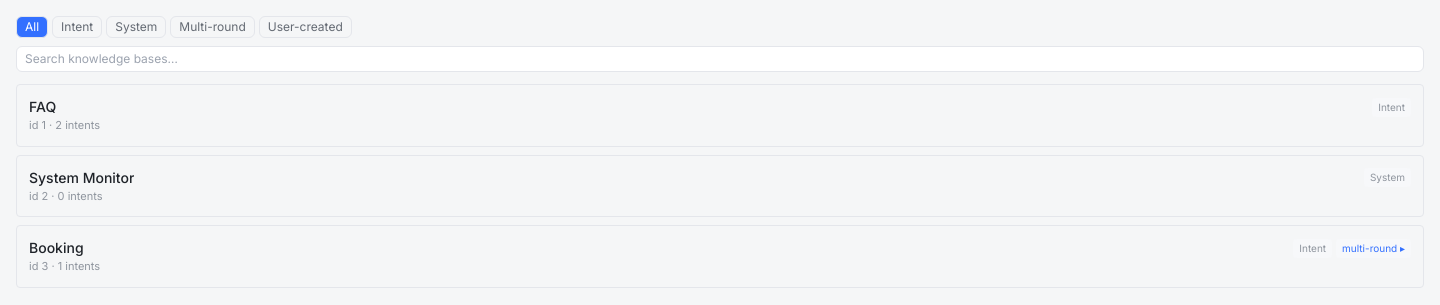
Scenario: KBPlane filters › filters to system KBs
Click the button with test id "chip-system".
click(136, 27)  # box x1=106 y1=16 x2=166 y2=38
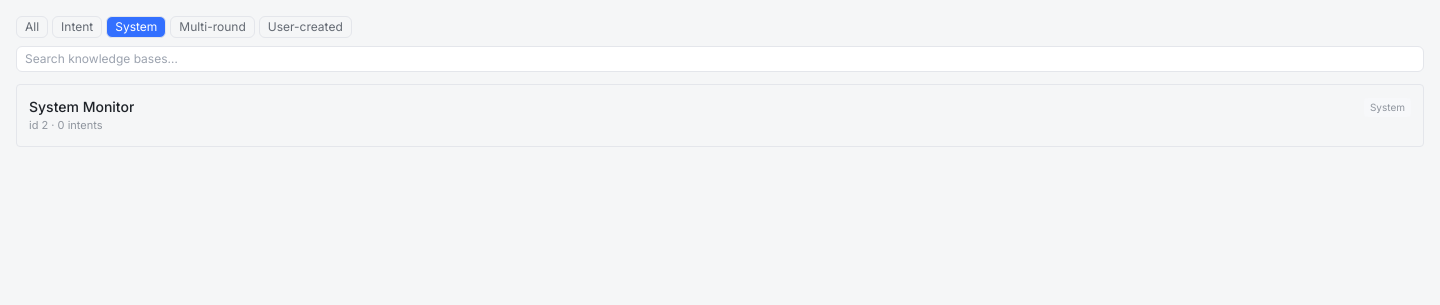
Check: the text "System Monitor" is shown, box x1=29 y1=97 x2=134 y2=117
Check: the number of list items with test id "kb-row" is 1, box x1=16 y1=84 x2=1424 y2=146
